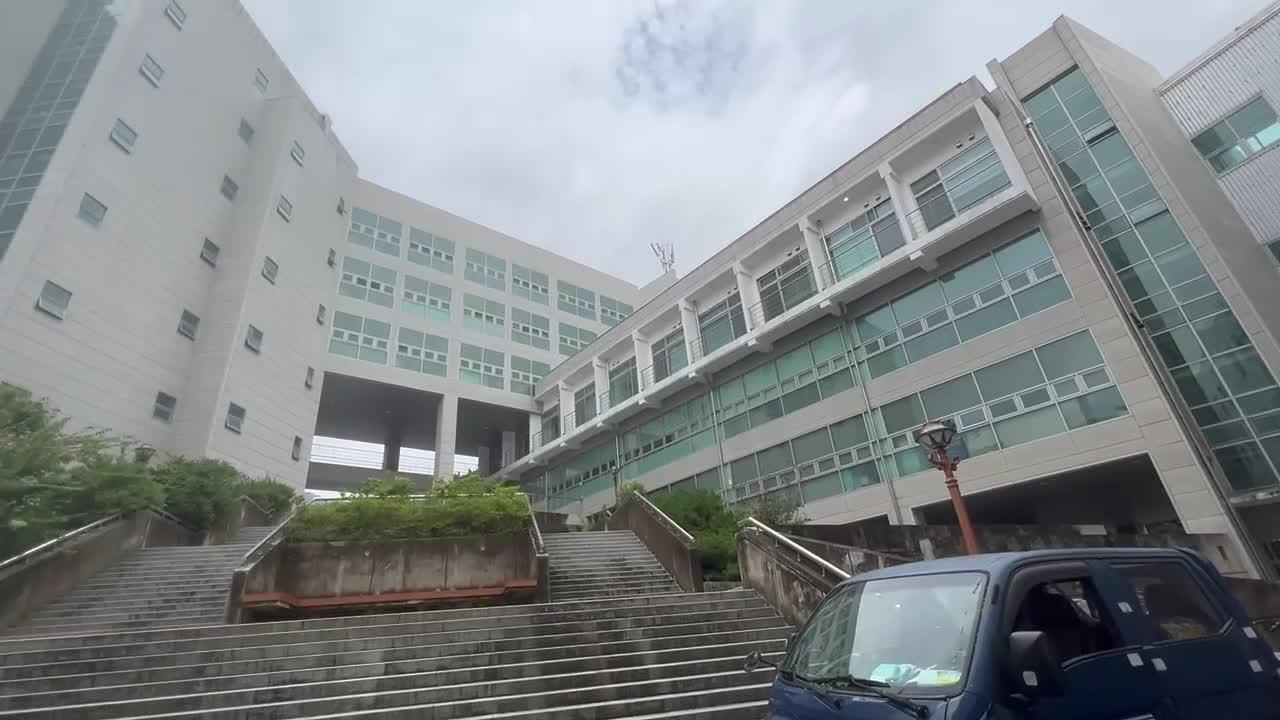building: (28, 61, 1244, 446)
